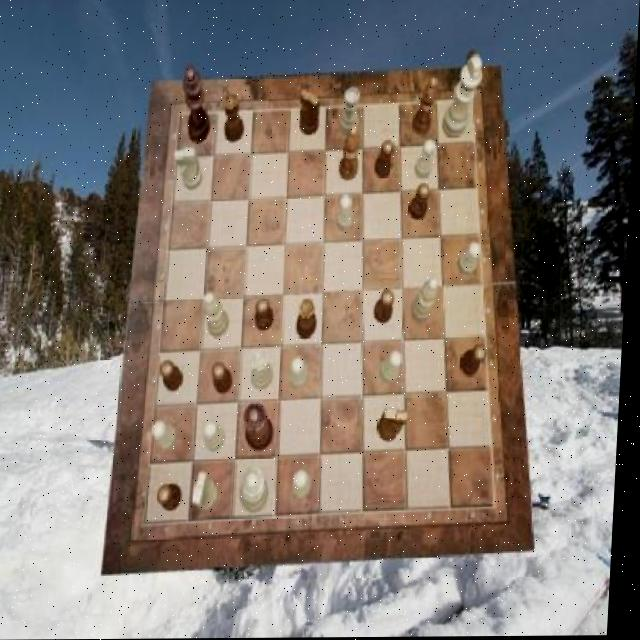bishop: (412, 77, 438, 136), (341, 126, 362, 182)
black-bishop: (181, 65, 214, 145)
black-king: (382, 407, 412, 441), (299, 91, 321, 137)
black-knight: (463, 345, 490, 377), (410, 183, 432, 220), (375, 141, 396, 179), (215, 363, 238, 396), (163, 360, 187, 391), (376, 290, 397, 324), (161, 485, 186, 511), (258, 297, 277, 331)
black-pawn: (247, 405, 279, 452)
black-queen: (222, 94, 247, 143), (299, 300, 320, 340)
black-rook: (413, 277, 441, 323), (205, 291, 233, 336)
white-bishop: (443, 55, 484, 138)
white-king: (174, 148, 204, 191), (196, 472, 224, 511)
white-knight: (381, 352, 406, 386), (460, 242, 484, 277), (155, 420, 181, 451), (416, 141, 437, 179), (207, 420, 231, 451), (338, 196, 356, 232), (293, 357, 312, 391), (296, 472, 316, 499)
white-pawn: (244, 468, 273, 515)
white-queen: (339, 89, 361, 136), (254, 352, 278, 391)
